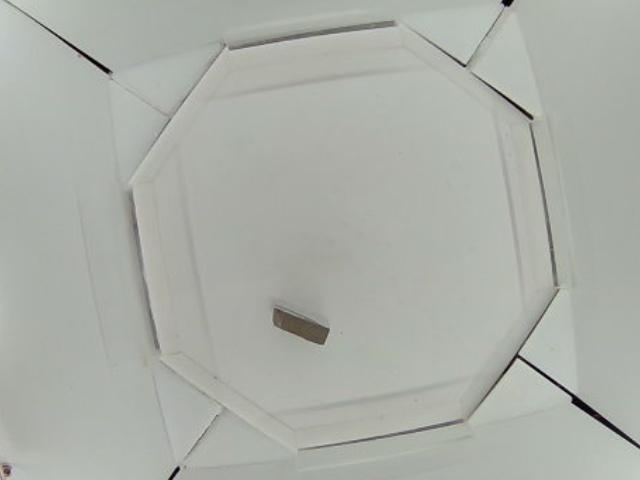China: (269, 305, 331, 348)
